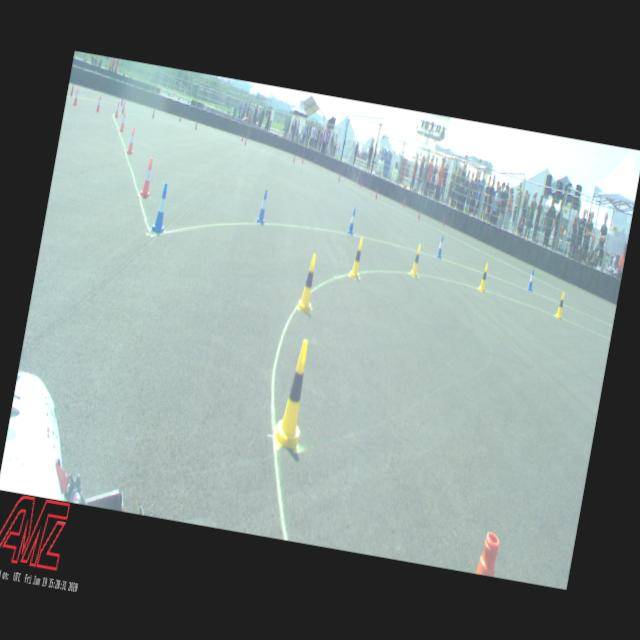blue_cone: (150, 182, 171, 233), (256, 188, 270, 224), (347, 208, 357, 234), (435, 235, 444, 258), (526, 268, 535, 290)
orange_cone: (139, 156, 155, 198), (126, 127, 137, 154), (118, 111, 126, 131), (72, 88, 79, 106), (95, 94, 102, 111), (114, 100, 120, 116)
unknown_cone: (70, 82, 74, 96), (121, 100, 125, 114), (120, 94, 124, 105), (152, 107, 156, 118), (374, 190, 378, 200), (179, 110, 182, 122), (195, 118, 198, 130), (244, 134, 247, 146), (338, 170, 341, 182), (240, 132, 243, 142), (292, 154, 295, 162), (418, 208, 420, 220), (442, 215, 444, 226), (402, 198, 404, 208), (302, 154, 304, 163), (360, 178, 362, 187)
yellow_cone: (272, 338, 316, 450), (296, 252, 320, 312), (348, 236, 364, 278), (410, 244, 422, 276), (478, 262, 488, 291), (555, 292, 566, 318)
